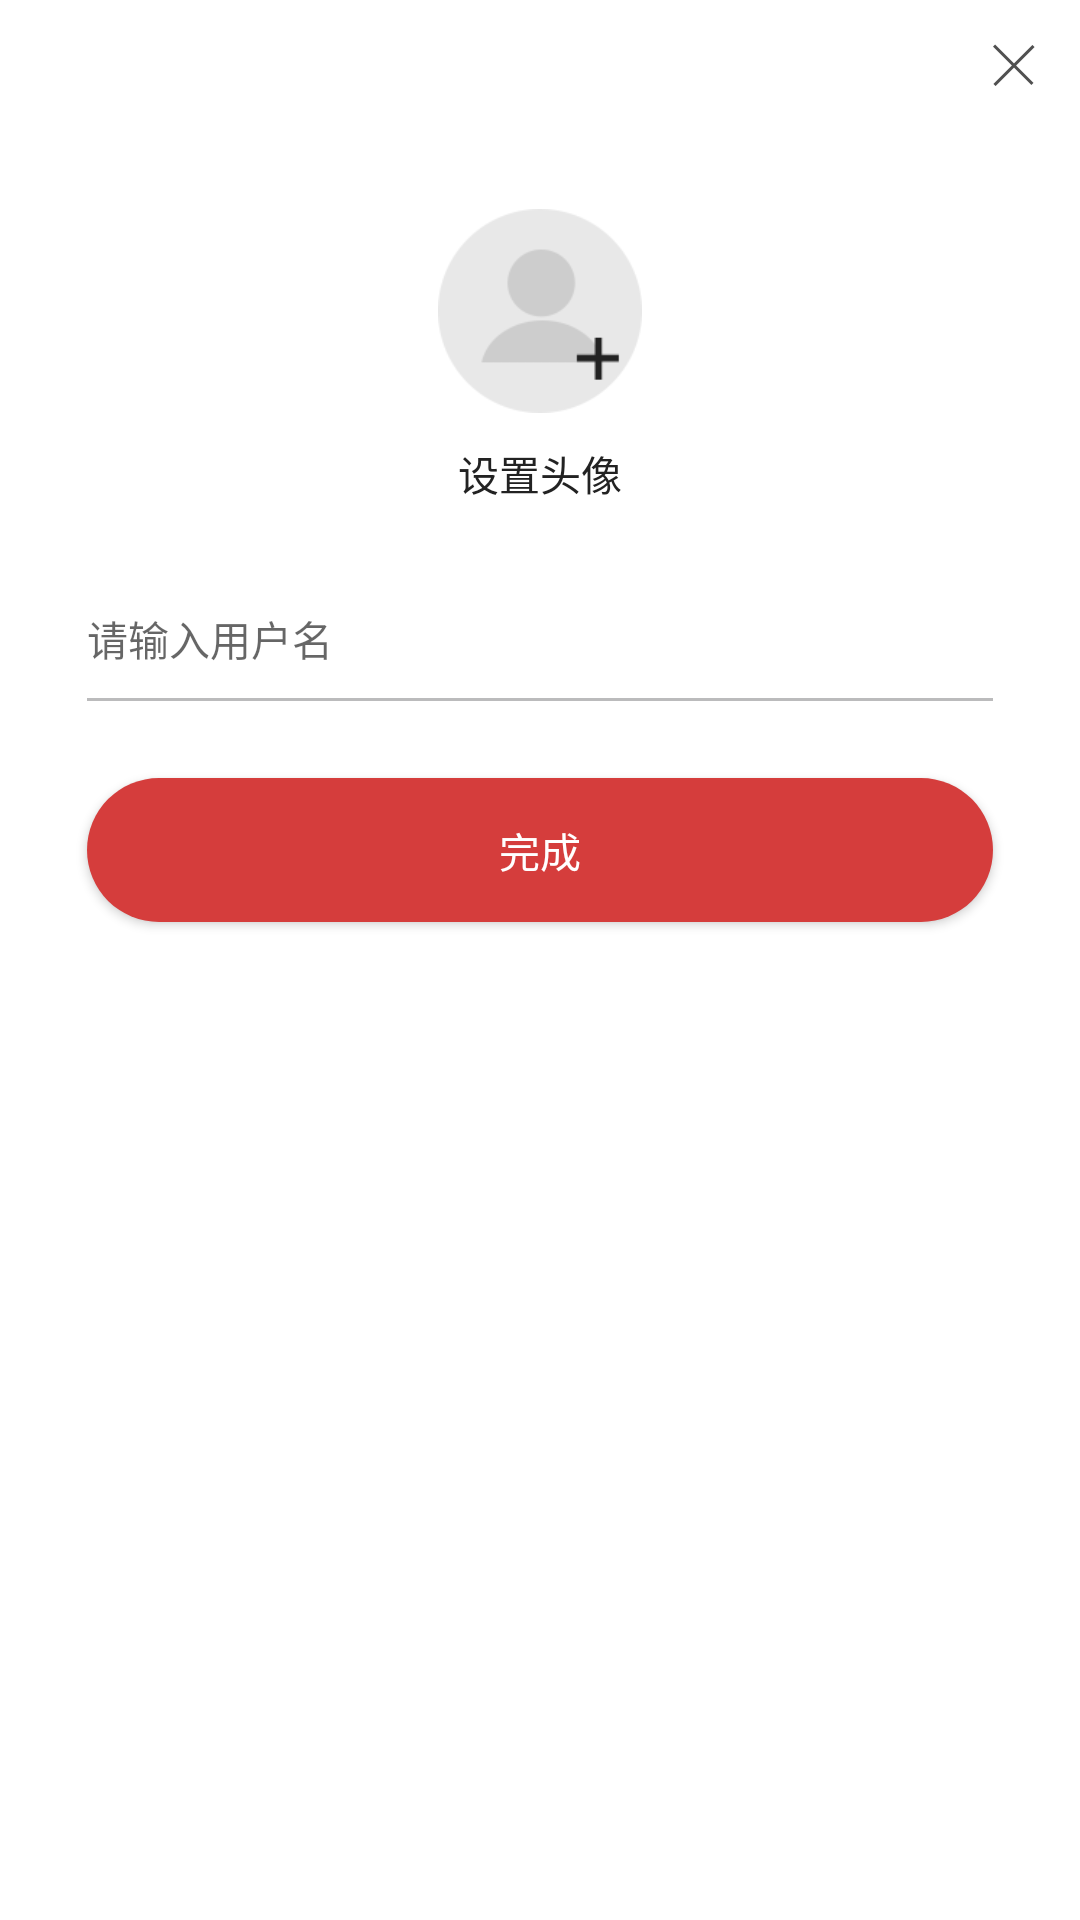

Where to tap for icons on this 1080px×1920px app screen, as point (x, y):
login close: point (1014, 65)
